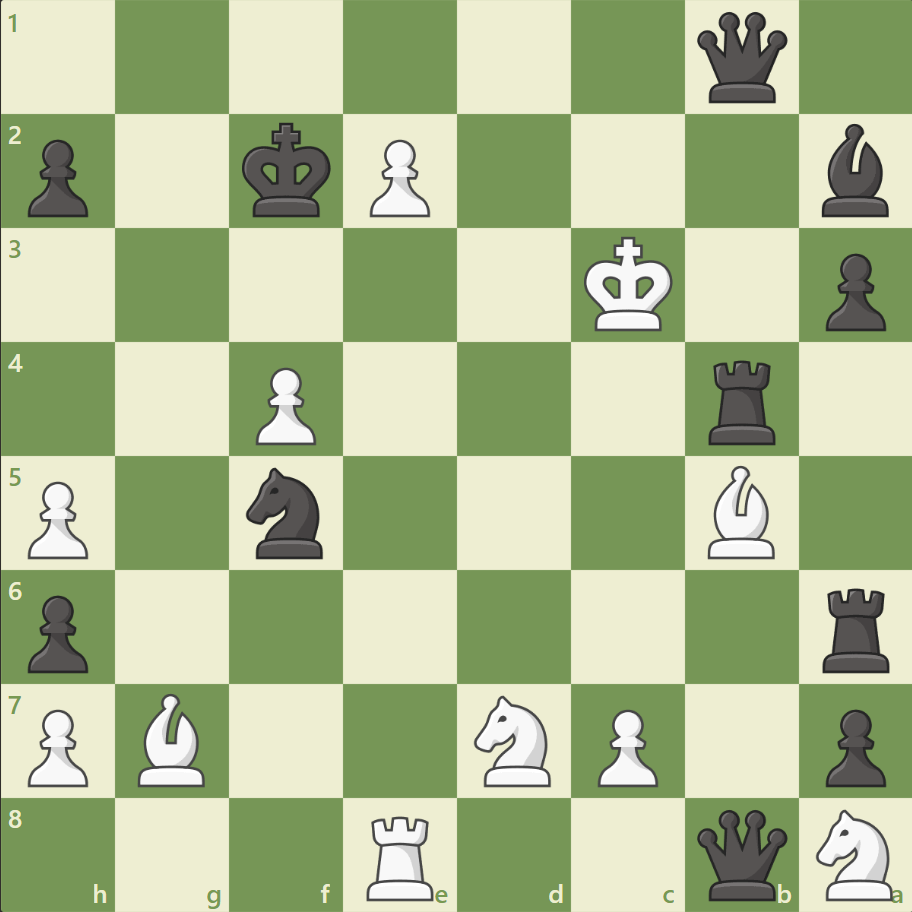B: (131, 687, 215, 790), (698, 460, 782, 563)
K: (579, 231, 679, 339)
N: (465, 688, 562, 791), (806, 802, 903, 904)
P: (20, 700, 95, 791), (20, 473, 95, 564), (247, 359, 322, 450), (588, 700, 662, 791), (361, 132, 435, 223)
R: (360, 806, 442, 904)
b: (812, 120, 896, 222)
k: (238, 117, 338, 225)
n: (238, 461, 335, 564)
p: (20, 586, 95, 677), (20, 132, 95, 223), (815, 700, 889, 791), (815, 246, 889, 337)
q: (691, 804, 790, 903), (691, 9, 790, 108)
r: (814, 579, 897, 676), (700, 352, 783, 449)
